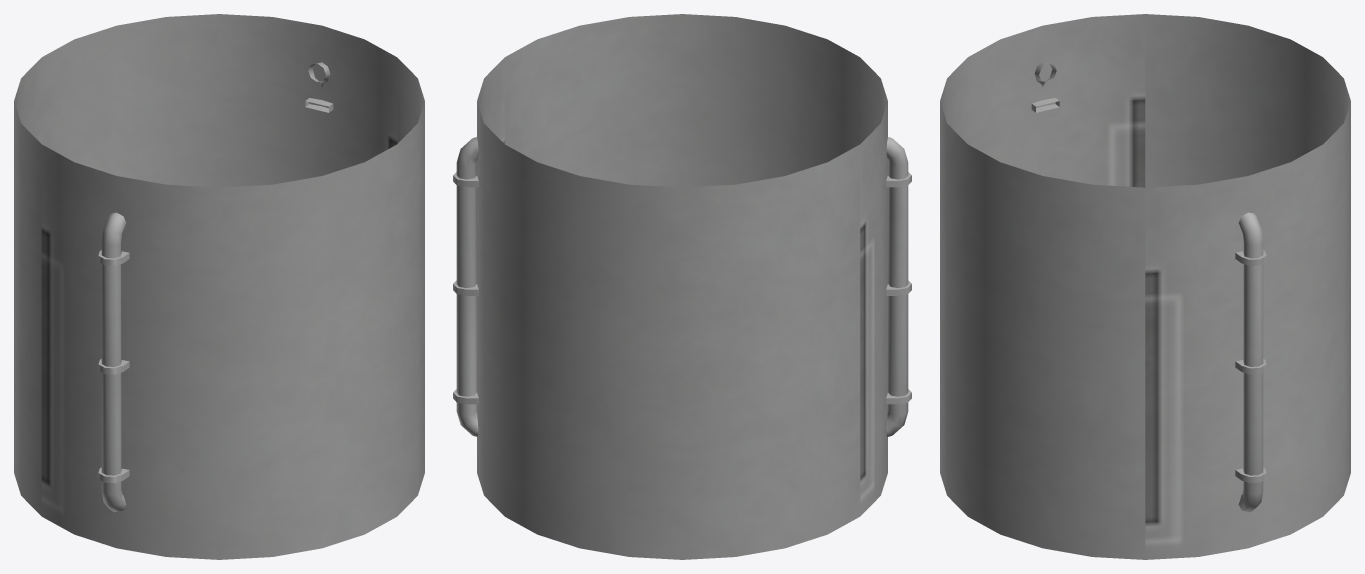
The model's file is us small tank.obj.
3 views of the same model, side by side, from view 1: azimuth 30°, elevation 25°; view 2: azimuth 150°, elevation 25°; view 3: azimuth 270°, elevation 25° (orthographic).
Visible parts, largest first — view 1: small; view 2: small; view 3: small.
Boxes of the visible parts, x1,y1,x2,y2 form: small: [14, 14, 424, 559]; small: [453, 14, 911, 559]; small: [940, 14, 1350, 559].
Bounding box in the file's own units: 1.5 × 1.5 × 1.5.
